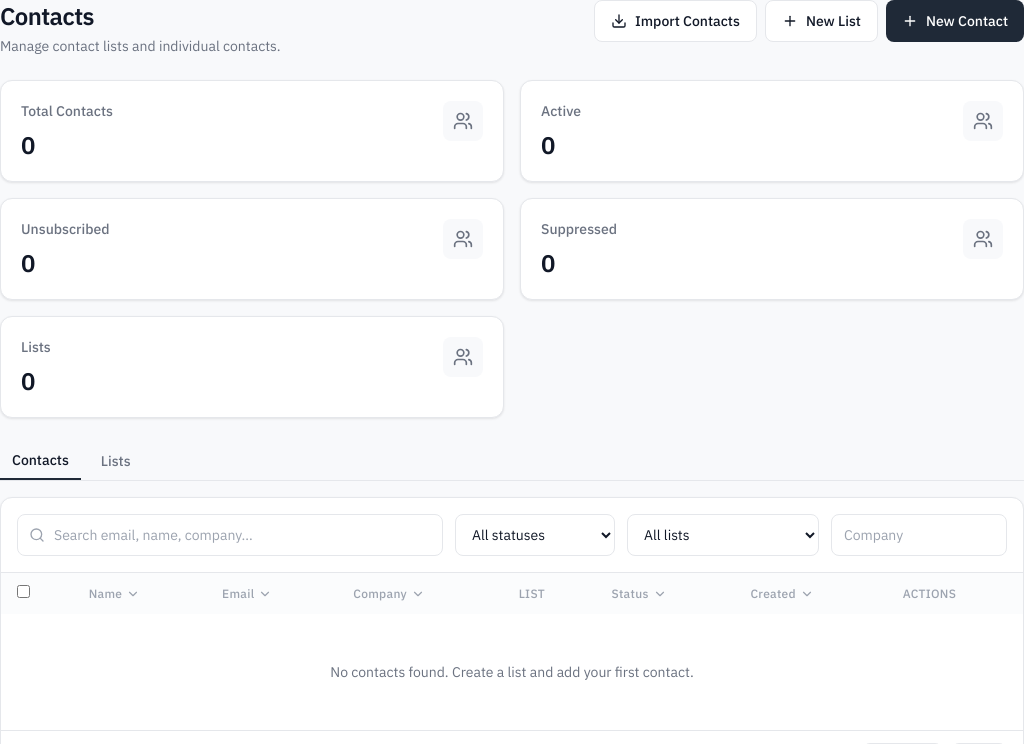
Test: ContactsPage › shows delete list confirmation copy
Click the button "Lists" at (116, 461), box [89, 442, 142, 480]
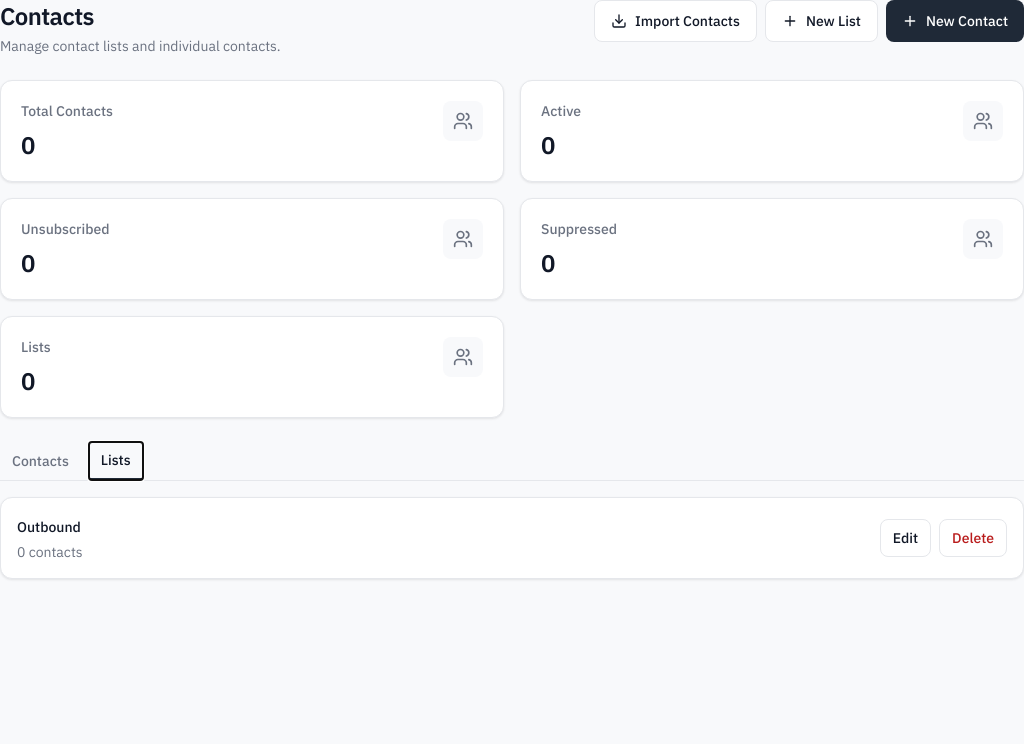
Result: the button "Outbound" is shown at [17, 517, 81, 537]
Click the button "Delete" at (973, 538), box [939, 519, 1007, 557]
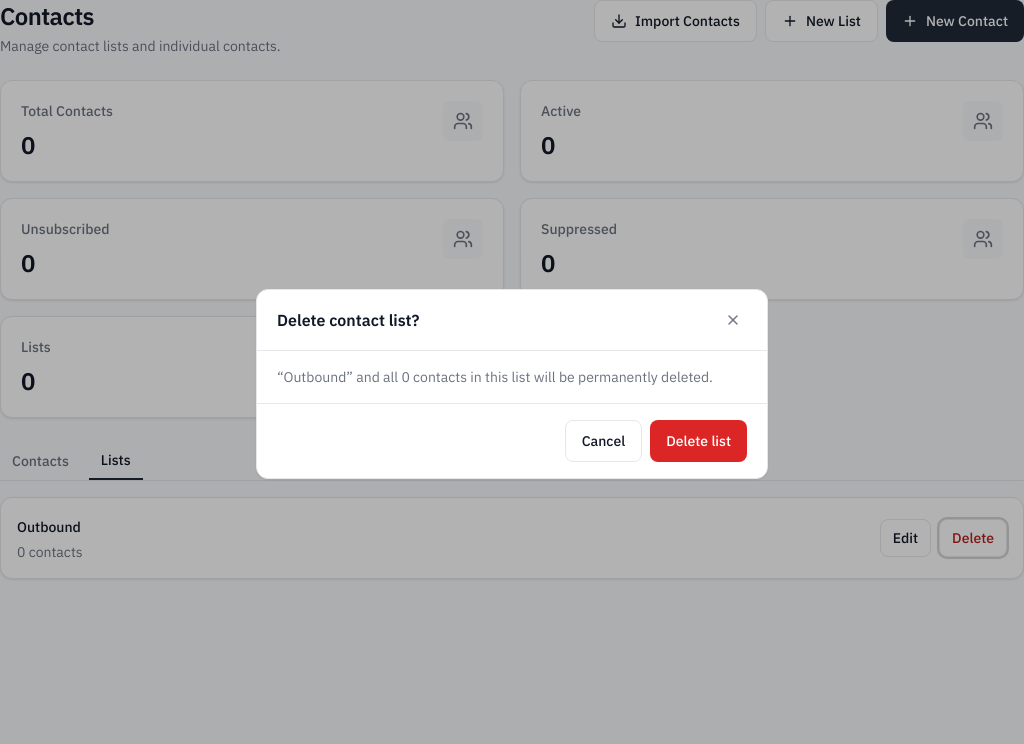
Result: the dialog "Delete contact list" is shown at [256, 289, 768, 479]
Result: the text "all 0 contacts in this list will be permanently deleted" is shown at [277, 368, 713, 386]
